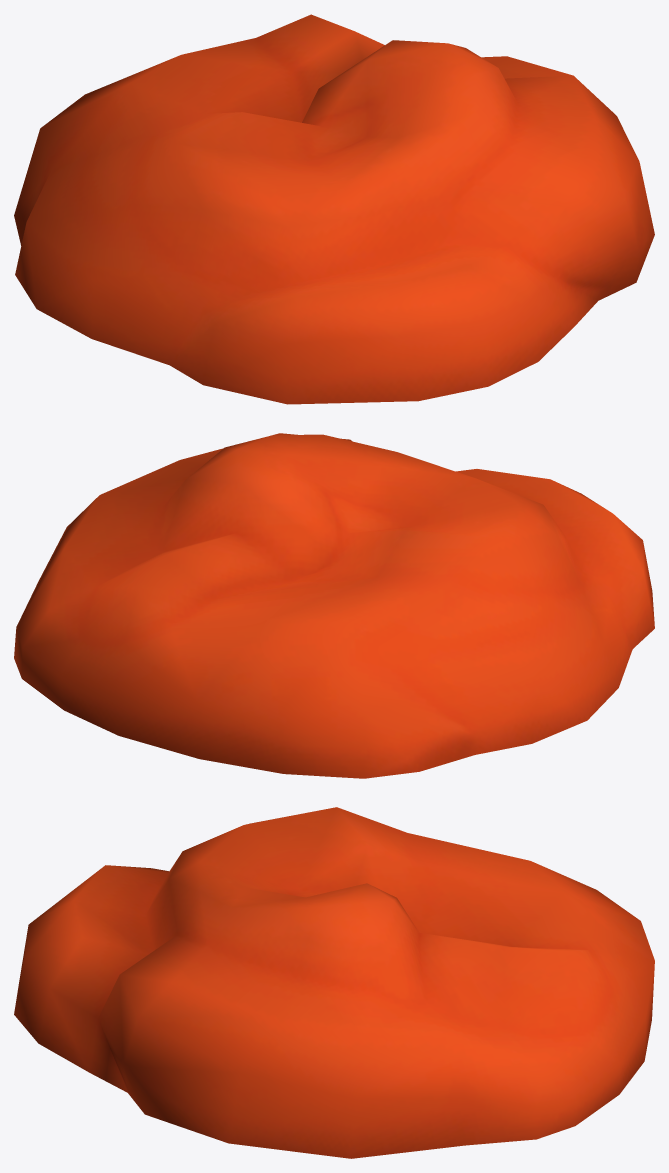
Rendered from SM_KetchupSauce.glb.
The picture shows the model from 3 angles, top to bottom: view 1: azimuth 30°, elevation 25°; view 2: azimuth 150°, elevation 25°; view 3: azimuth 270°, elevation 25°; orthographic projection. The views are drawn at different scales.
Visible parts, largest first — view 1: SM_KetchupSauce; view 2: SM_KetchupSauce; view 3: SM_KetchupSauce.
Boxes of the visible parts, bbox=[...] form: SM_KetchupSauce: bbox=[14, 14, 654, 404]; SM_KetchupSauce: bbox=[14, 433, 654, 778]; SM_KetchupSauce: bbox=[14, 807, 654, 1158].
Size of the model in its own units: 0.1017 by 0.0309 by 0.1046.
Materials: 1 (1 with a texture image).
